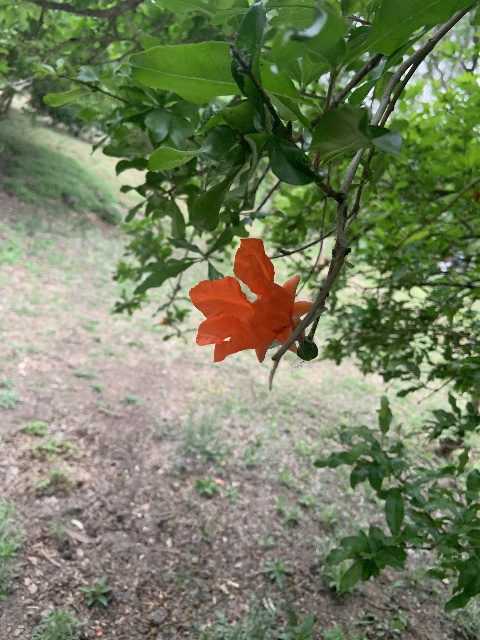flower: (188, 237, 314, 364)
